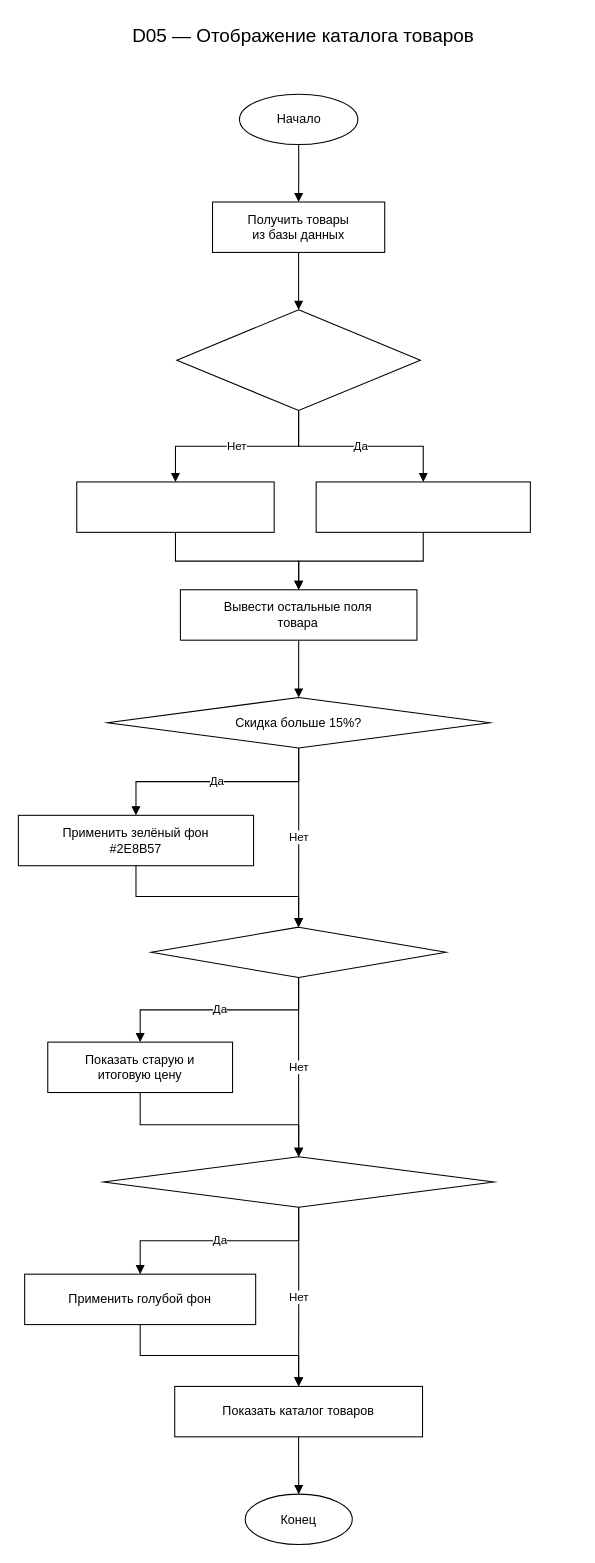
This 595x1563 diagram has some shape labels left out. Each missing label, with the centre of its shape:
"Остаток равен нулю?" goes at (x=298, y=1181).
"Показать picture.png" goes at (x=175, y=506).
"Показать фото товара" goes at (x=422, y=506).
"У товара есть фото?" goes at (x=298, y=360).
"Цена снижена?" goes at (x=298, y=952).
